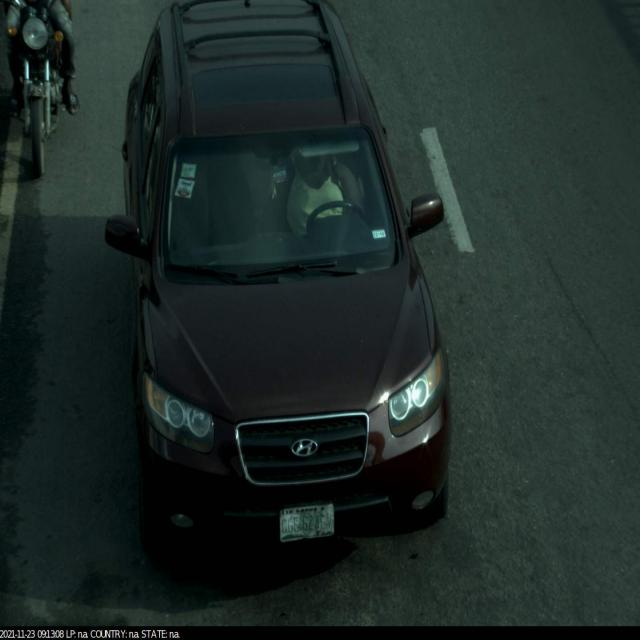windshield: (158, 122, 408, 297)
